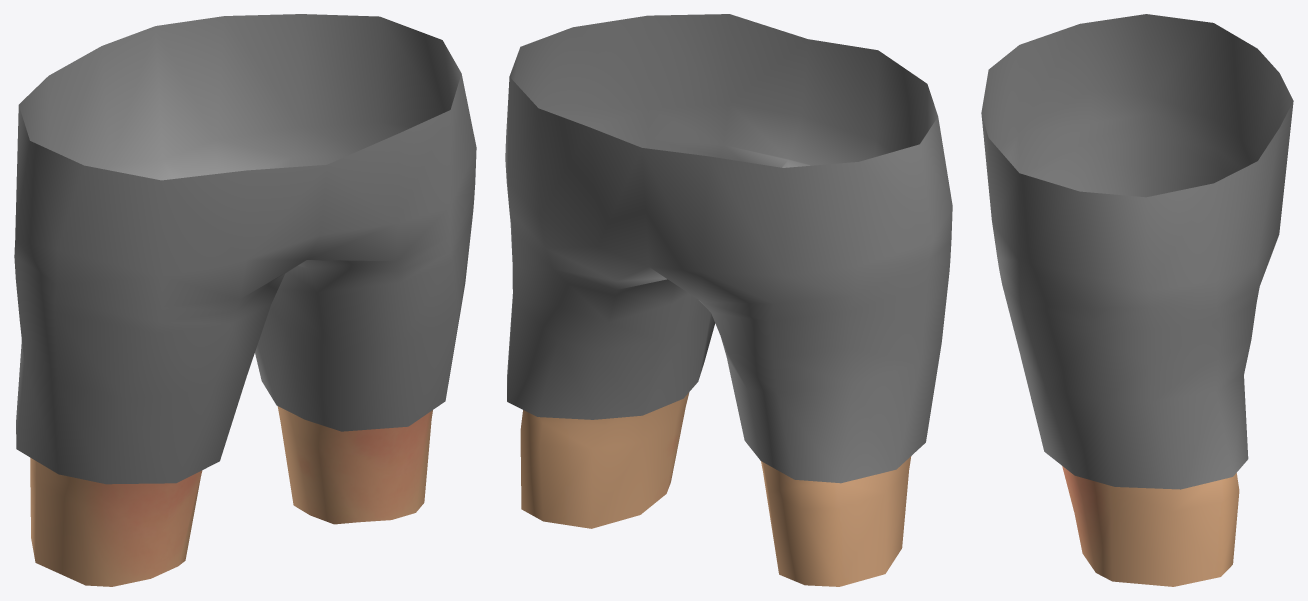
Rendered from pantalon_cortoCB.FBX.
3 renders of one model, left to right at view 1: azimuth 30°, elevation 25°; view 2: azimuth 150°, elevation 25°; view 3: azimuth 270°, elevation 25°, orthographic. The views are drawn at different scales.
Parts seen in each view (by area): view 1: pantalon_corto; view 2: pantalon_corto; view 3: pantalon_corto.
Part boxes in pixels (x1,y1,x2,y2): pantalon_corto: (14,14,476,586); pantalon_corto: (505,14,952,586); pantalon_corto: (981,14,1293,586).
Bounding box in the file's own units: 5.36 × 5.24 × 3.62.
Materials: 2 (1 with a texture image).
